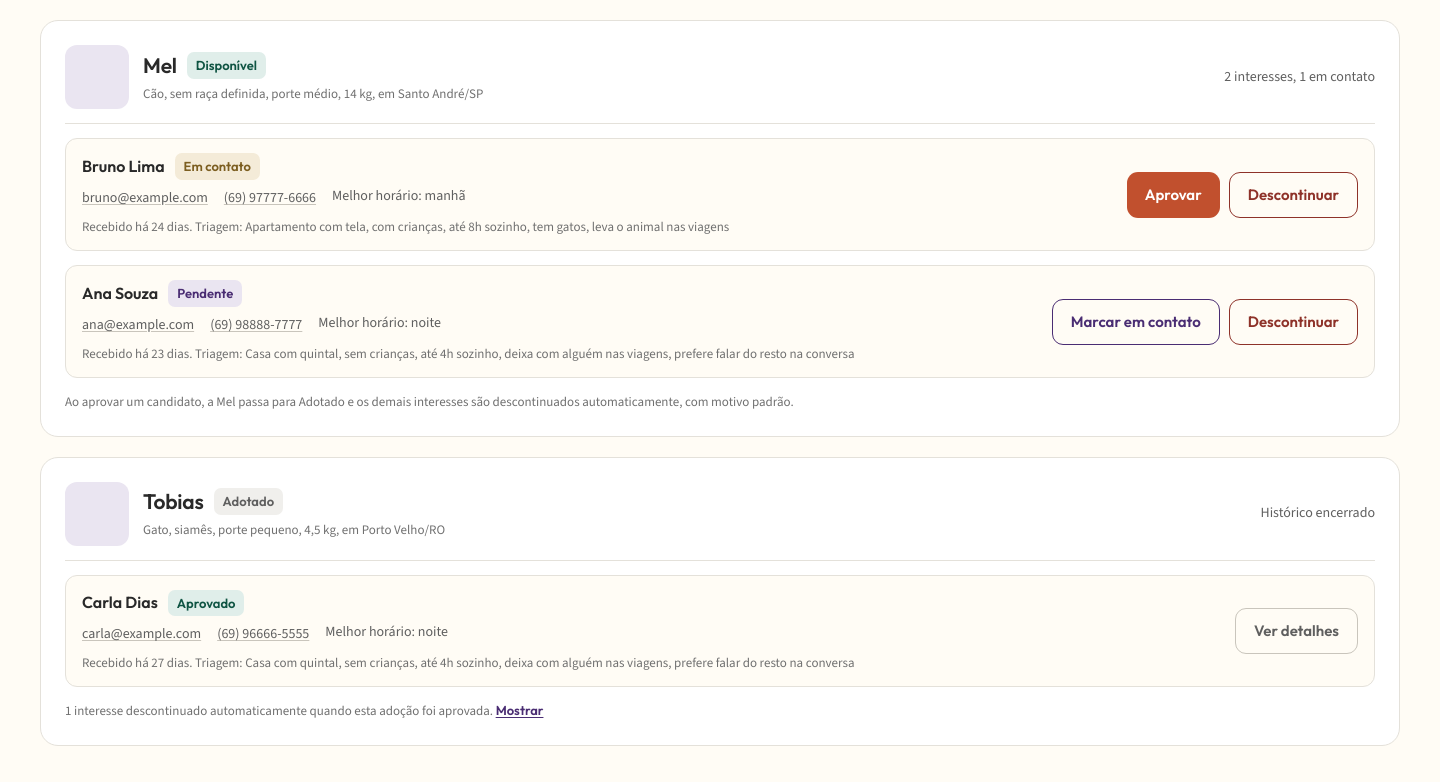
it: lista › os descontinuados ficam recolhidos e abrem pelo cartão do animal
This screenshot has width=1440, height=782.
(page scrolled)
Expected: the heading "Ana Souza" is shown, [82,283,158,304]
Expected: the heading "Davi Rocha" is not shown
Step 1. Click the button with aria-label "Mostrar interesses descontinuados de Tobias" → (520, 711), box [496,701,544,721]
(page scrolled)
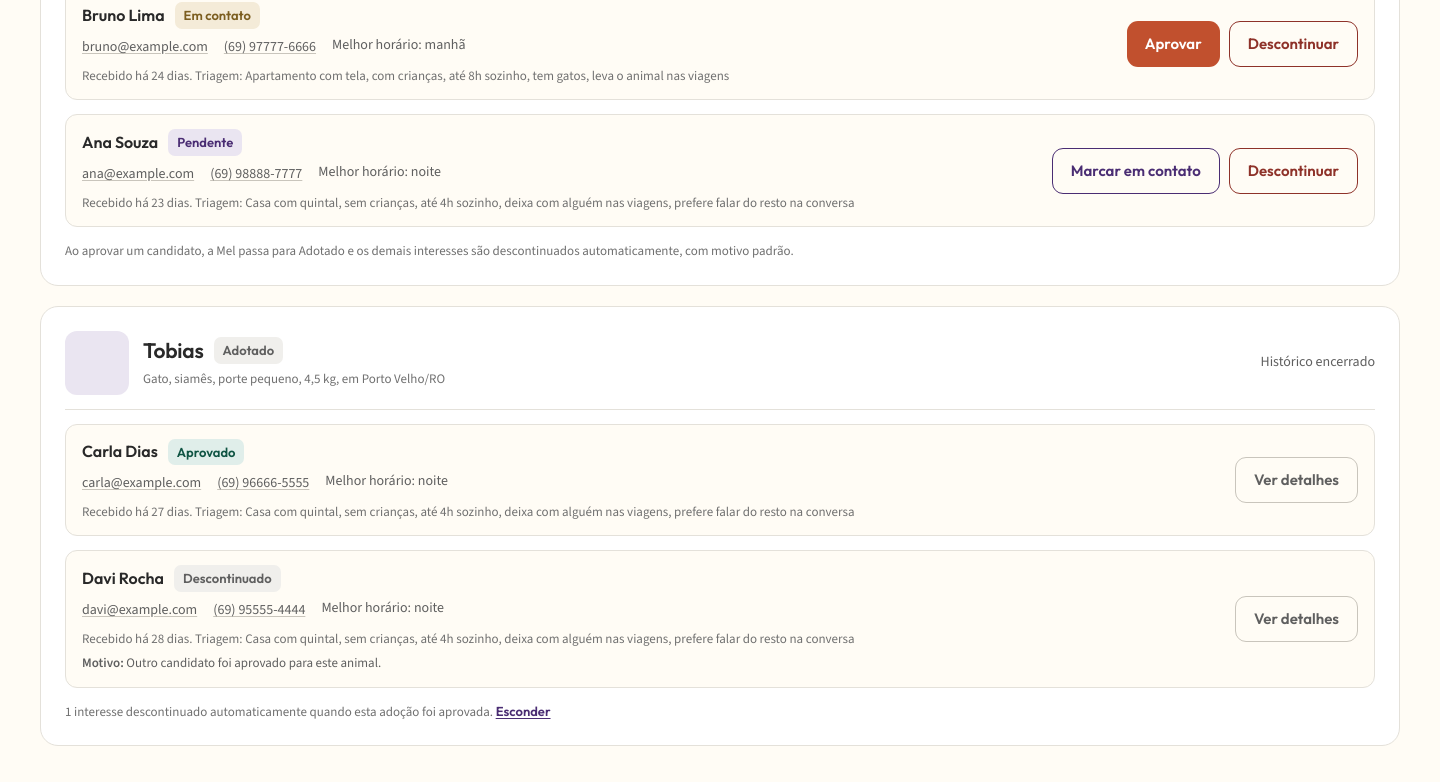
Result: the text "Descontinuado" is shown at [174,565,280,592]
Result: the text "Outro candidato foi aprovado para este animal." is shown at [126,654,381,671]
